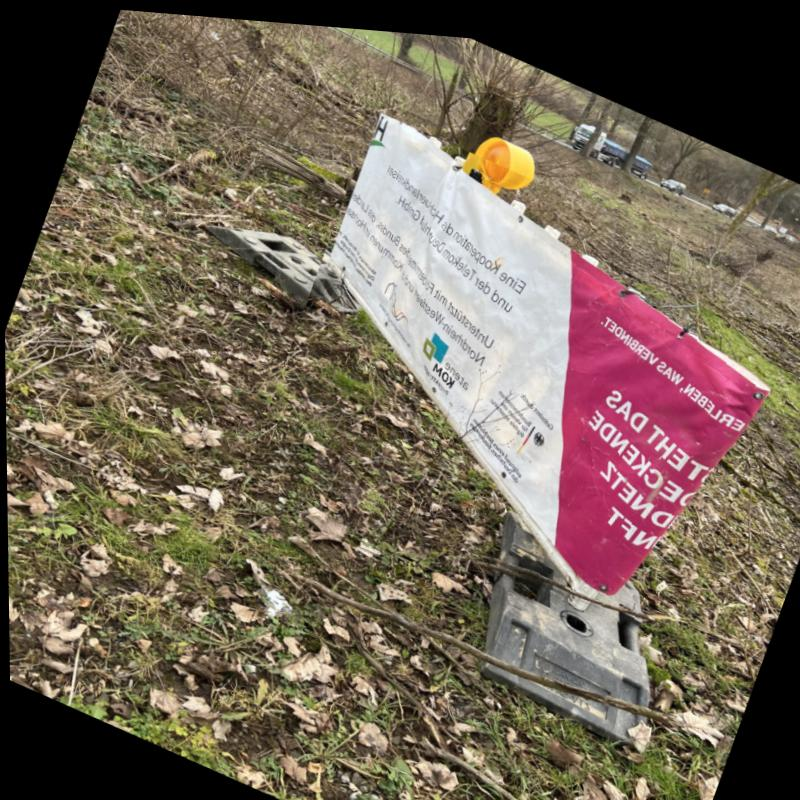Banner: (317, 107, 769, 595)
